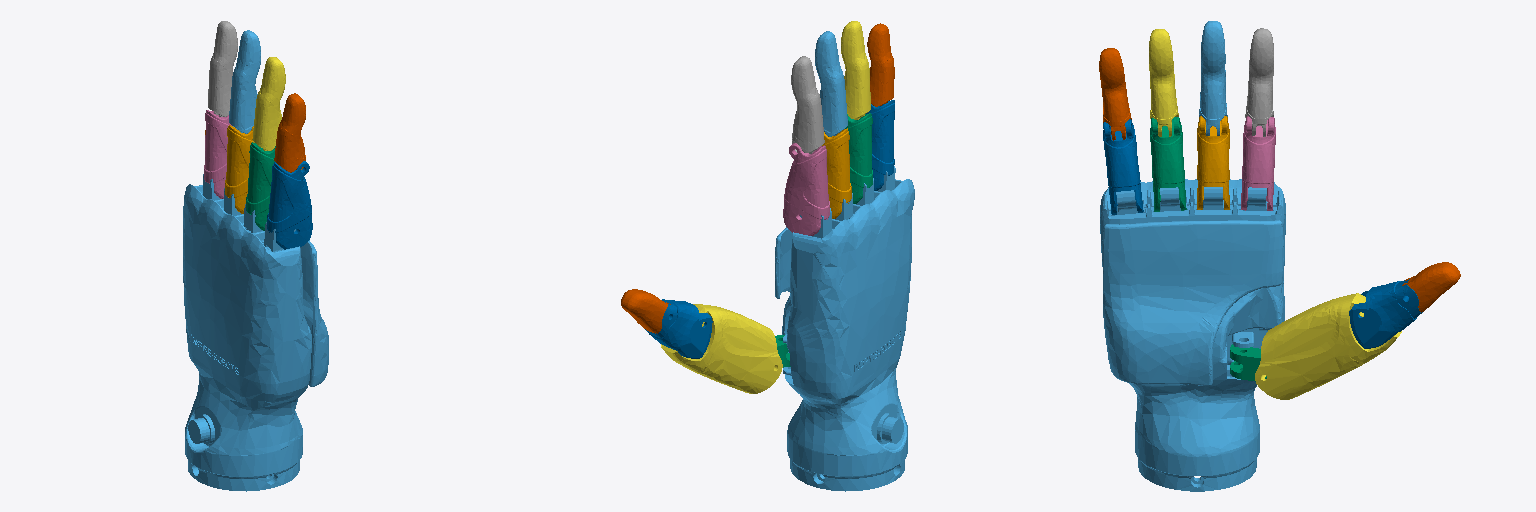
URDF robot description (inspire_hand_right):
<?xml version="1.0" encoding="utf-8"?>
<robot name="inspire_hand_right">
  <link name="base"/>
  <joint name="base_joint" type="fixed">
    <parent link="base"/>
    <child link="hand_base_link"/>
    <origin xyz="0 0 0" rpy="-1.57079 0 3.14159"/>
  </joint>
  <link name="hand_base_link">
    <inertial>
      <origin xyz="-0.0025264 -0.066047 0.0019598" rpy="0 0 0"/>
      <mass value="0.14143"/>
      <inertia ixx="0.00012281" ixy="2.1711E-06" ixz="1.7709E-06" iyy="8.3832E-05" iyz="-1.6551E-06" izz="7.6663E-05"/>
    </inertial>
    <visual>
      <origin xyz="0 0 0" rpy="0 0 0"/>
      <geometry>
        <mesh filename="package://inspire_hand_description/meshes/visual/right_base_link.obj"/>
      </geometry>
    </visual>
    <collision>
      <origin xyz="0 -0.0136 0" rpy="1.57079 0 0"/>
      <geometry>
        <cylinder length="0.0278" radius="0.028"/>
      </geometry>
    </collision>
    <collision>
      <origin xyz="-0.0032 -0.038 0" rpy="0 0 0"/>
      <geometry>
        <box size="0.0391 0.0202 0.0574"/>
      </geometry>
    </collision>
    <collision>
      <origin xyz="-0.0032 -0.0682 0" rpy="0 0 0"/>
      <geometry>
        <box size="0.0391 0.04 0.0814"/>
      </geometry>
    </collision>
    <collision>
      <origin xyz="0 -0.1081 0" rpy="0 0 0"/>
      <geometry>
        <box size="0.0322 0.04 0.0814"/>
      </geometry>
    </collision>
    <collision>
      <origin xyz="-0.0016 -0.1340 0.0309" rpy="0 0 0"/>
      <geometry>
        <box size="0.0125 0.0111 0.0089"/>
      </geometry>
    </collision>
    <collision>
      <origin xyz="-0.0016 -0.1340 0.0118" rpy="0 0 0"/>
      <geometry>
        <box size="0.0125 0.0111 0.0089"/>
      </geometry>
    </collision>
    <collision>
      <origin xyz="-0.0016 -0.1340 -0.0070" rpy="0 0 0"/>
      <geometry>
        <box size="0.0125 0.0111 0.0089"/>
      </geometry>
    </collision>
    <collision>
      <origin xyz="-0.0016 -0.1340 -0.0262" rpy="0 0 0"/>
      <geometry>
        <box size="0.0125 0.0111 0.0089"/>
      </geometry>
    </collision>
  </link>
  <link name="thumb_proximal_base">
    <inertial>
      <origin xyz="-0.0048064 0.0009382 -0.00757" rpy="0 0 0"/>
      <mass value="0.0018869"/>
      <inertia ixx="5.816E-08" ixy="1.4539E-08" ixz="4.491E-09" iyy="7.9161E-08" iyz="-1.8727E-09" izz="6.7433E-08"/>
    </inertial>
    <visual>
      <origin xyz="0 0 0" rpy="0 0 0"/>
      <geometry>
        <mesh filename="package://inspire_hand_description/meshes/visual/right_thumb_proximal_base.obj"/>
      </geometry>
    </visual>
    <collision>
      <origin xyz="0 0 0" rpy="0 0 0"/>
      <geometry>
        <mesh filename="package://inspire_hand_description/meshes/collision/right_thumb_proximal_base.obj"/>
      </geometry>
    </collision>
  </link>
  <joint name="thumb_proximal_yaw_joint" type="revolute">
    <origin xyz="-0.01696 -0.0691 -0.02045" rpy="1.5708 -1.5708 0"/>
    <parent link="hand_base_link"/>
    <child link="thumb_proximal_base"/>
    <axis xyz="0 0 -1"/>
    <limit lower="0.0" upper="1.308" effort="1" velocity="0.5"/>
  </joint>
  <link name="thumb_proximal">
    <inertial>
      <origin xyz="0.021932 0.012785 -0.0080386" rpy="0 0 0"/>
      <mass value="0.0066075"/>
      <inertia ixx="1.5686E-06" ixy="-7.8296E-07" ixz="8.9143E-10" iyy="1.7353E-06" iyz="-1.0191E-09" izz="2.786E-06"/>
    </inertial>
    <visual>
      <origin xyz="0 0 0" rpy="0 0 0"/>
      <geometry>
        <mesh filename="package://inspire_hand_description/meshes/visual/right_thumb_proximal.obj"/>
      </geometry>
    </visual>
    <collision>
      <origin xyz="0 0 0" rpy="0 0 0"/>
      <geometry>
        <mesh filename="package://inspire_hand_description/meshes/collision/right_thumb_proximal.obj"/>
      </geometry>
    </collision>
  </link>
  <joint name="thumb_proximal_pitch_joint" type="revolute">
    <origin xyz="-0.0088099 0.010892 -0.00925" rpy="1.5708 0 2.8587"/>
    <parent link="thumb_proximal_base"/>
    <child link="thumb_proximal"/>
    <axis xyz="0 0 1"/>
    <limit lower="0" upper="0.6" effort="1" velocity="0.5"/>
  </joint>
  <link name="thumb_intermediate">
    <inertial>
      <origin xyz="0.0095544 -0.0016282 -0.0071997" rpy="0 0 0"/>
      <mass value="0.0037847"/>
      <inertia ixx="3.6981E-07" ixy="-9.8581E-08" ixz="-4.7469E-12" iyy="3.2394E-07" iyz="1.0939E-12" izz="4.6531E-07"/>
    </inertial>
    <visual>
      <origin xyz="0 0 0" rpy="0 0 0"/>
      <geometry>
        <mesh filename="package://inspire_hand_description/meshes/visual/right_thumb_intermediate.obj"/>
      </geometry>
    </visual>
    <collision>
      <origin xyz="0 0 0" rpy="0 0 0"/>
      <geometry>
        <mesh filename="package://inspire_hand_description/meshes/collision/right_thumb_intermediate.obj"/>
      </geometry>
    </collision>
  </link>
  <joint name="thumb_intermediate_joint" type="revolute">
    <origin xyz="0.04407 0.034553 -0.0008" rpy="0 0 0"/>
    <parent link="thumb_proximal"/>
    <child link="thumb_intermediate"/>
    <axis xyz="0 0 1"/>
    <limit lower="0" upper="0.8" effort="1" velocity="0.5"/>
    <mimic joint="thumb_proximal_pitch_joint" multiplier="1.334" offset="0"/>
  </joint>
  <link name="thumb_distal">
    <inertial>
      <origin xyz="0.0092888 0.0049529 -0.0060033" rpy="0 0 0"/>
      <mass value="0.0033441"/>
      <inertia ixx="1.3632E-07" ixy="-5.6788E-08" ixz="-9.2764E-11" iyy="1.4052E-07" iyz="-1.2283E-10" izz="2.0026E-07"/>
    </inertial>
    <visual>
      <origin xyz="0 0 0" rpy="0 0 0"/>
      <geometry>
        <mesh filename="package://inspire_hand_description/meshes/visual/right_thumb_distal.obj"/>
      </geometry>
    </visual>
    <collision>
      <origin xyz="0 0 0" rpy="0 0 0"/>
      <geometry>
        <mesh filename="package://inspire_hand_description/meshes/collision/right_thumb_distal.obj"/>
      </geometry>
    </collision>
  </link>
  <joint name="thumb_distal_joint" type="revolute">
    <origin xyz="0.020248 0.010156 -0.0012" rpy="0 0 0"/>
    <parent link="thumb_intermediate"/>
    <child link="thumb_distal"/>
    <axis xyz="0 0 1"/>
    <limit lower="0" upper="0.4" effort="1" velocity="0.5"/>
    <mimic joint="thumb_proximal_pitch_joint" multiplier="0.667" offset="0"/>
  </joint>
  <link name="index_proximal">
    <inertial>
      <origin xyz="0.0012259 0.011942 -0.0060001" rpy="0 0 0"/>
      <mass value="0.0042403"/>
      <inertia ixx="6.6232E-07" ixy="-1.5775E-08" ixz="1.8515E-12" iyy="2.1146E-07" iyz="-5.0828E-12" izz="6.9398E-07"/>
    </inertial>
    <visual>
      <origin xyz="0 0 0" rpy="0 0 0"/>
      <geometry>
        <mesh filename="package://inspire_hand_description/meshes/visual/right_index_proximal.obj"/>
      </geometry>
    </visual>
    <collision>
      <origin xyz="0 0 0" rpy="0 0 0"/>
      <geometry>
        <mesh filename="package://inspire_hand_description/meshes/collision/right_index_proximal.obj"/>
      </geometry>
    </collision>
  </link>
  <joint name="index_proximal_joint" type="revolute">
    <origin xyz="0.00028533 -0.13653 -0.032268" rpy="-3.1067 0 0"/>
    <parent link="hand_base_link"/>
    <child link="index_proximal"/>
    <axis xyz="0 0 1"/>
    <limit lower="0" upper="1.47" effort="1" velocity="0.5"/>
  </joint>
  <link name="index_intermediate">
    <inertial>
      <origin xyz="0.0019697 0.019589 -0.005" rpy="0 0 0"/>
      <mass value="0.0045683"/>
      <inertia ixx="7.6111E-07" ixy="8.7637E-08" ixz="-3.7751E-13" iyy="9.6076E-08" iyz="9.9444E-13" izz="7.8179E-07"/>
    </inertial>
    <visual>
      <origin xyz="0 0 0" rpy="0 0 0"/>
      <geometry>
        <mesh filename="package://inspire_hand_description/meshes/visual/right_index_intermediate.obj"/>
      </geometry>
    </visual>
    <collision>
      <origin xyz="0 0 0" rpy="0 0 0"/>
      <geometry>
        <mesh filename="package://inspire_hand_description/meshes/collision/right_index_intermediate.obj"/>
      </geometry>
    </collision>
  </link>
  <joint name="index_intermediate_joint" type="revolute">
    <origin xyz="-0.0026138 0.032026 -0.001" rpy="0 0 0"/>
    <parent link="index_proximal"/>
    <child link="index_intermediate"/>
    <axis xyz="0 0 1"/>
    <limit lower="-0.04545" upper="1.56" effort="1" velocity="0.5"/>
    <mimic joint="index_proximal_joint" multiplier="1.06399" offset="-0.04545"/>
  </joint>
  <link name="middle_proximal">
    <inertial>
      <origin xyz="0.001297 0.011934 -0.0060001" rpy="0 0 0"/>
      <mass value="0.0042403"/>
      <inertia ixx="6.6211E-07" ixy="-1.8461E-08" ixz="1.8002E-12" iyy="2.1167E-07" iyz="-6.6808E-12" izz="6.9397E-07"/>
    </inertial>
    <visual>
      <origin xyz="0 0 0" rpy="0 0 0"/>
      <geometry>
        <mesh filename="package://inspire_hand_description/meshes/visual/right_index_proximal.obj"/>
      </geometry>
    </visual>
    <collision>
      <origin xyz="0 0 0" rpy="0 0 0"/>
      <geometry>
        <mesh filename="package://inspire_hand_description/meshes/collision/right_index_proximal.obj"/>
      </geometry>
    </collision>
  </link>
  <joint name="middle_proximal_joint" type="revolute">
    <origin xyz="0.00028533 -0.1371 -0.01295" rpy="-3.1416 0 0"/>
    <parent link="hand_base_link"/>
    <child link="middle_proximal"/>
    <axis xyz="0 0 1"/>
    <limit lower="0" upper="1.47" effort="1" velocity="0.5"/>
  </joint>
  <link name="middle_intermediate">
    <inertial>
      <origin xyz="0.001921 0.020796 -0.005" rpy="0 0 0"/>
      <mass value="0.0050396"/>
      <inertia ixx="9.5822E-07" ixy="1.1425E-07" ixz="-2.4791E-12" iyy="1.0646E-07" iyz="5.9173E-12" izz="9.8384E-07"/>
    </inertial>
    <visual>
      <origin xyz="0 0 0" rpy="0 0 0"/>
      <geometry>
        <mesh filename="package://inspire_hand_description/meshes/visual/right_middle_intermediate.obj"/>
      </geometry>
    </visual>
    <collision>
      <origin xyz="0 0 0" rpy="0 0 0"/>
      <geometry>
        <mesh filename="package://inspire_hand_description/meshes/collision/right_middle_intermediate.obj"/>
      </geometry>
    </collision>
  </link>
  <joint name="middle_intermediate_joint" type="revolute">
    <origin xyz="-0.0024229 0.032041 -0.001" rpy="0 0 0"/>
    <parent link="middle_proximal"/>
    <child link="middle_intermediate"/>
    <axis xyz="0 0 1"/>
    <limit lower="-0.04545" upper="1.56" effort="1" velocity="0.5"/>
    <mimic joint="middle_proximal_joint" multiplier="1.06399" offset="-0.04545"/>
  </joint>
  <link name="ring_proximal">
    <inertial>
      <origin xyz="0.001297 0.011934 -0.0060002" rpy="0 0 0"/>
      <mass value="0.0042403"/>
      <inertia ixx="6.6211E-07" ixy="-1.8461E-08" ixz="1.5793E-12" iyy="2.1167E-07" iyz="-6.6868E-12" izz="6.9397E-07"/>
    </inertial>
    <visual>
      <origin xyz="0 0 0" rpy="0 0 0"/>
      <geometry>
        <mesh filename="package://inspire_hand_description/meshes/visual/right_index_proximal.obj"/>
      </geometry>
    </visual>
    <collision>
      <origin xyz="0 0 0" rpy="0 0 0"/>
      <geometry>
        <mesh filename="package://inspire_hand_description/meshes/collision/right_index_proximal.obj"/>
      </geometry>
    </collision>
  </link>
  <joint name="ring_proximal_joint" type="revolute">
    <origin xyz="0.00028533 -0.13691 0.0062872" rpy="3.0892 0 0"/>
    <parent link="hand_base_link"/>
    <child link="ring_proximal"/>
    <axis xyz="0 0 1"/>
    <limit lower="0" upper="1.47" effort="1" velocity="0.5"/>
  </joint>
  <link name="ring_intermediate">
    <inertial>
      <origin xyz="0.0021753 0.019567 -0.005" rpy="0 0 0"/>
      <mass value="0.0045683"/>
      <inertia ixx="7.6286E-07" ixy="8.0635E-08" ixz="-6.1562E-13" iyy="9.431E-08" iyz="5.8619E-13" izz="7.8177E-07"/>
    </inertial>
    <visual>
      <origin xyz="0 0 0" rpy="0 0 0"/>
      <geometry>
        <mesh filename="package://inspire_hand_description/meshes/visual/right_index_intermediate.obj"/>
      </geometry>
    </visual>
    <collision>
      <origin xyz="0 0 0" rpy="0 0 0"/>
      <geometry>
        <mesh filename="package://inspire_hand_description/meshes/collision/right_index_intermediate.obj"/>
      </geometry>
    </collision>
  </link>
  <joint name="ring_intermediate_joint" type="revolute">
    <origin xyz="-0.0024229 0.032041 -0.001" rpy="0 0 0"/>
    <parent link="ring_proximal"/>
    <child link="ring_intermediate"/>
    <axis xyz="0 0 1"/>
    <limit lower="-0.04545" upper="1.56" effort="1" velocity="0.5"/>
    <mimic joint="ring_proximal_joint" multiplier="1.06399" offset="-0.04545"/>
  </joint>
  <link name="pinky_proximal">
    <inertial>
      <origin xyz="0.001297 0.011934 -0.0060001" rpy="0 0 0"/>
      <mass value="0.0042403"/>
      <inertia ixx="6.6211E-07" ixy="-1.8461E-08" ixz="1.6907E-12" iyy="2.1167E-07" iyz="-6.9334E-12" izz="6.9397E-07"/>
    </inertial>
    <visual>
      <origin xyz="0 0 0" rpy="0 0 0"/>
      <geometry>
        <mesh filename="package://inspire_hand_description/meshes/visual/right_index_proximal.obj"/>
      </geometry>
    </visual>
    <collision>
      <origin xyz="0 0 0" rpy="0 0 0"/>
      <geometry>
        <mesh filename="package://inspire_hand_description/meshes/collision/right_index_proximal.obj"/>
      </geometry>
    </collision>
  </link>
  <joint name="pinky_proximal_joint" type="revolute">
    <origin xyz="0.00028533 -0.13571 0.025488" rpy="3.0369 0 0"/>
    <parent link="hand_base_link"/>
    <child link="pinky_proximal"/>
    <axis xyz="0 0 1"/>
    <limit lower="0" upper="1.47" effort="1" velocity="0.5"/>
  </joint>
  <link name="pinky_intermediate">
    <inertial>
      <origin xyz="0.0024748 0.016203 -0.0050031" rpy="0 0 0"/>
      <mass value="0.0035996"/>
      <inertia ixx="4.3913E-07" ixy="4.1418E-08" ixz="3.7168E-11" iyy="7.0247E-08" iyz="5.8613E-11" izz="4.4867E-07"/>
    </inertial>
    <visual>
      <origin xyz="0 0 0" rpy="0 0 0"/>
      <geometry>
        <mesh filename="package://inspire_hand_description/meshes/visual/right_pinky_intermediate.obj"/>
      </geometry>
    </visual>
    <collision>
      <origin xyz="0 0 0" rpy="0 0 0"/>
      <geometry>
        <mesh filename="package://inspire_hand_description/meshes/collision/right_pinky_intermediate.obj"/>
      </geometry>
    </collision>
  </link>
  <joint name="pinky_intermediate_joint" type="revolute">
    <origin xyz="-0.0024229 0.032041 -0.001" rpy="0 0 0"/>
    <parent link="pinky_proximal"/>
    <child link="pinky_intermediate"/>
    <axis xyz="0 0 1"/>
    <limit lower="-0.04545" upper="1.56" effort="1" velocity="0.5"/>
    <mimic joint="pinky_proximal_joint" multiplier="1.06399" offset="-0.04545"/>
  </joint>

  <link name='thumb_tip'/>
  <joint name="thumb_tip_joint" type="fixed">
    <origin xyz="0.0202 0.0140 -0.006" rpy="0 0 0"/>
    <parent link="thumb_distal"/>
    <child link="thumb_tip"/>
  </joint>
  <link name='index_tip'/>
  <joint name="index_tip_joint" type="fixed">
    <origin xyz="-0.0008 0.045 -0.005" rpy="0 0 0"/>
    <parent link="index_intermediate"/>
    <child link="index_tip"/>
  </joint>
  <link name='middle_tip'/>
  <joint name="middle_tip_joint" type="fixed">
    <origin xyz="-0.001 0.048 -0.005" rpy="0 0 0"/>
    <parent link="middle_intermediate"/>
    <child link="middle_tip"/>
  </joint>
  <link name='ring_tip'/>
  <joint name="ring_tip_joint" type="fixed">
    <origin xyz="-0.0008 0.045 -0.005" rpy="0 0 0"/>
    <parent link="ring_intermediate"/>
    <child link="ring_tip"/>
  </joint>
  <link name='pinky_tip'/>
  <joint name="pinky_tip_joint" type="fixed">
    <origin xyz="-0.0008 0.037 -0.005" rpy="0 0 0"/>
    <parent link="pinky_intermediate"/>
    <child link="pinky_tip"/>
  </joint>
</robot>

--- Render facts (derived) ---
Views: 3 orthographic renders of the robot side by side, from view 1: azimuth 30°, elevation 25°; view 2: azimuth 150°, elevation 25°; view 3: azimuth 270°, elevation 25°.
Robot: inspire_hand_right — 19 links, 18 joints (12 revolute, 6 fixed); root link base; default pose: every joint at zero.
Visible links, largest first — view 1: hand_base_link, pinky_proximal, middle_intermediate, ring_intermediate, index_intermediate, pinky_intermediate, ring_proximal, middle_proximal, index_proximal; view 2: hand_base_link, thumb_proximal, index_proximal, thumb_intermediate, middle_intermediate, index_intermediate, ring_intermediate, pinky_intermediate, ring_proximal, middle_proximal, pinky_proximal, thumb_distal; view 3: hand_base_link, thumb_proximal, thumb_intermediate, middle_intermediate, ring_intermediate, index_intermediate, ring_proximal, index_proximal, pinky_proximal, middle_proximal, pinky_intermediate, thumb_distal (+1 smaller).
Link boxes in pixels (<box>): hand_base_link: <box>183,174,328,491</box>; pinky_proximal: <box>267,161,312,249</box>; middle_intermediate: <box>229,30,260,133</box>; ring_intermediate: <box>252,57,285,150</box>; index_intermediate: <box>208,21,237,116</box>; pinky_intermediate: <box>274,93,305,172</box>; ring_proximal: <box>246,142,275,230</box>; middle_proximal: <box>225,125,253,213</box>; index_proximal: <box>204,110,231,198</box>; hand_base_link: <box>775,166,914,491</box>; thumb_proximal: <box>661,304,782,393</box>; index_proximal: <box>783,143,829,235</box>; thumb_intermediate: <box>645,299,712,358</box>; middle_intermediate: <box>815,31,847,136</box>; index_intermediate: <box>791,56,824,153</box>; ring_intermediate: <box>841,21,870,119</box>; pinky_intermediate: <box>867,23,894,106</box>; ring_proximal: <box>845,113,872,203</box>; middle_proximal: <box>822,128,851,218</box>; pinky_proximal: <box>866,100,894,190</box>; thumb_distal: <box>621,289,670,333</box>; hand_base_link: <box>1100,179,1285,491</box>; thumb_proximal: <box>1255,293,1401,399</box>; thumb_intermediate: <box>1349,279,1422,348</box>; middle_intermediate: <box>1199,21,1227,135</box>; ring_intermediate: <box>1149,29,1178,136</box>; index_intermediate: <box>1245,28,1273,136</box>; ring_proximal: <box>1150,117,1186,211</box>; index_proximal: <box>1241,116,1275,210</box>; pinky_proximal: <box>1103,119,1143,214</box>; middle_proximal: <box>1197,116,1229,209</box>; pinky_intermediate: <box>1099,48,1131,140</box>; thumb_distal: <box>1402,262,1460,312</box>.
Bounding box of the posed robot: 0.0816 × 0.1581 × 0.218 m (x, y, z).
13 mesh visuals loaded from 9 distinct referenced files (9 OBJ).